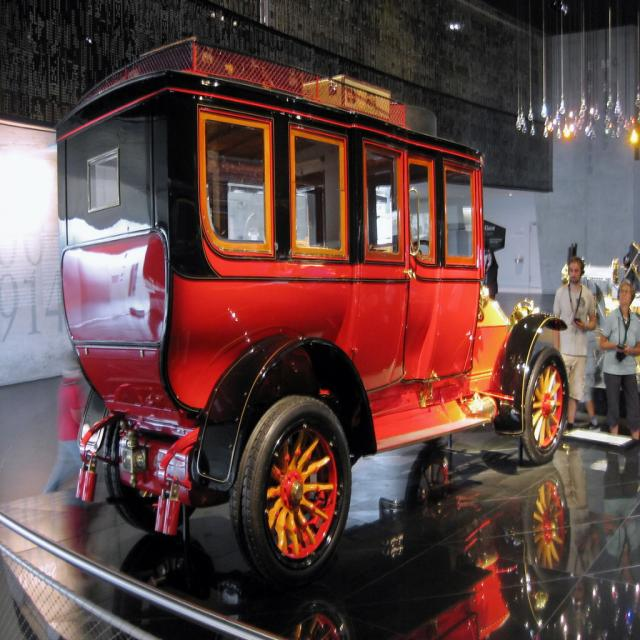car: (60, 33, 568, 576)
